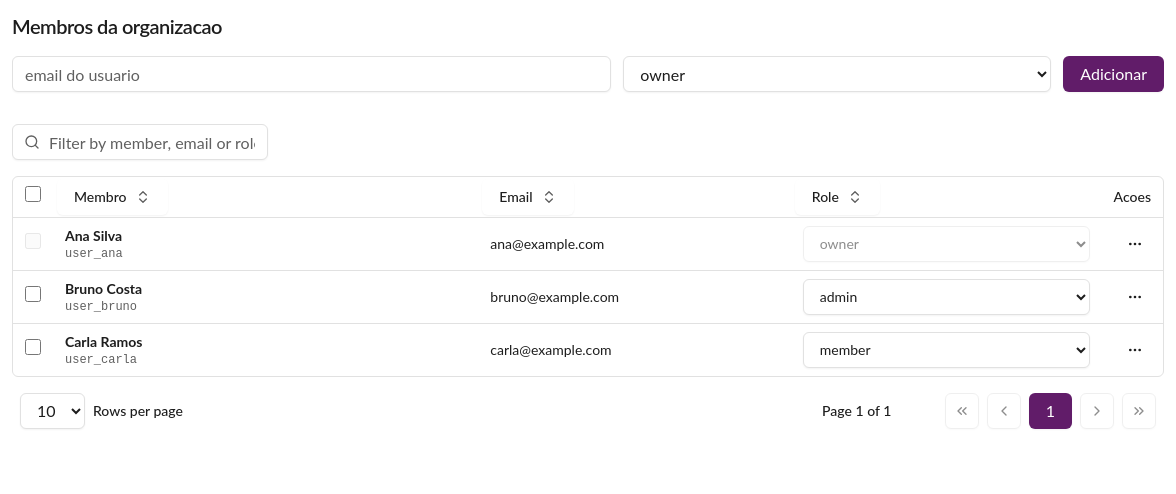
Test case: Organizations pages › manages organization members and surfaces API errors
The width and height of the screenshot is (1176, 494).
Expected: the text "Ana Silva" is shown, [65,226,122,244]
In the field with placeholder "email do usuario": (312, 74) [12,56,611,92], type "new@example.com"
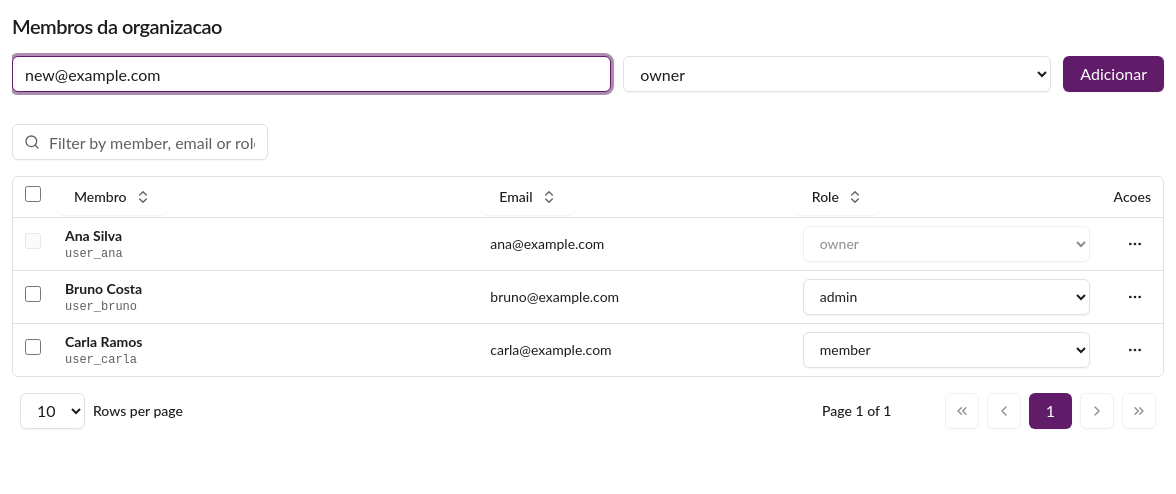
Click the button "Adicionar": click(1114, 74) [1063,56,1164,92]
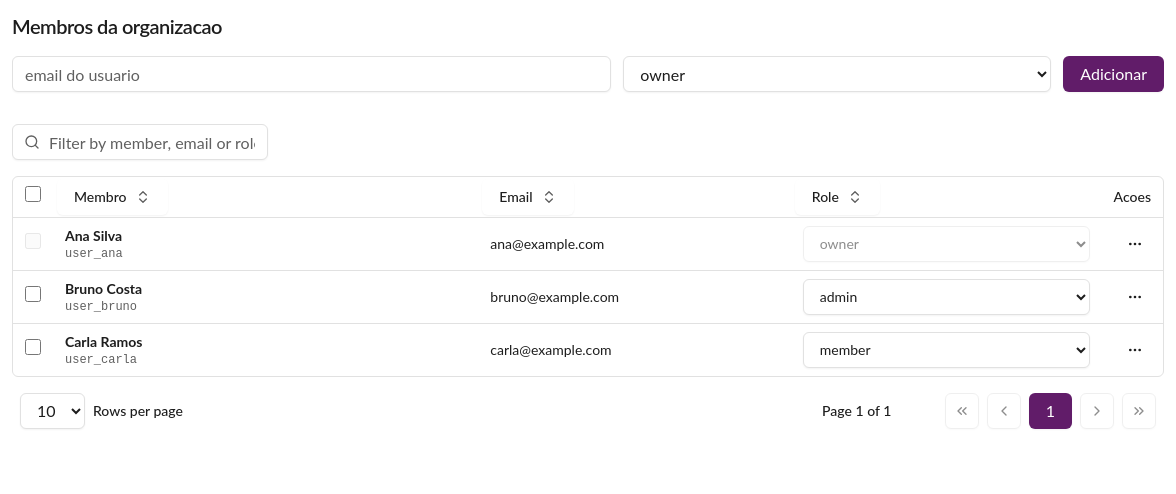
Click the button named "Acoes para Bruno Costa" in the row of "Bruno Costa": click(1135, 296) [1119,280,1151,312]
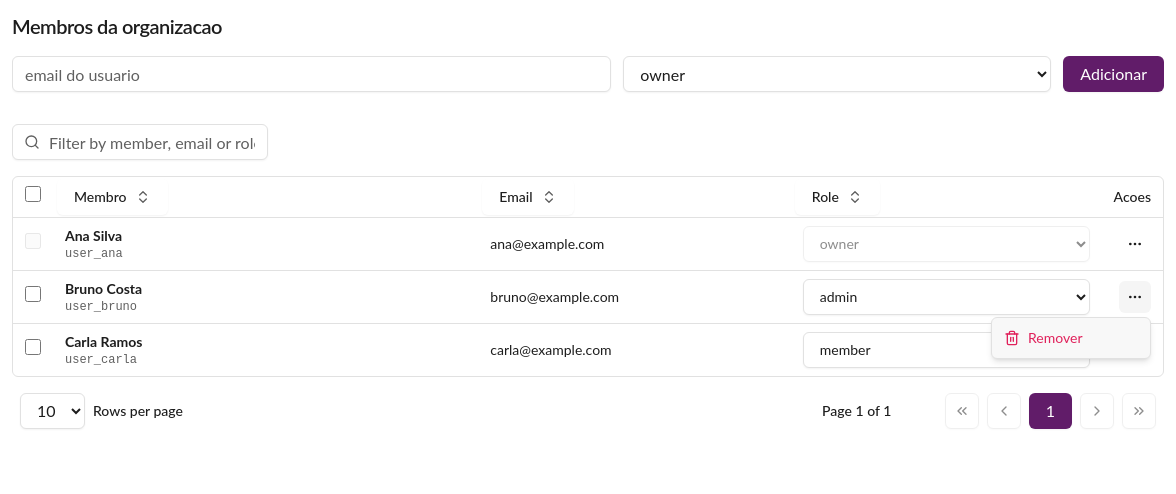
Click the menu item "Remover": click(1043, 338) [1004,329,1082,346]
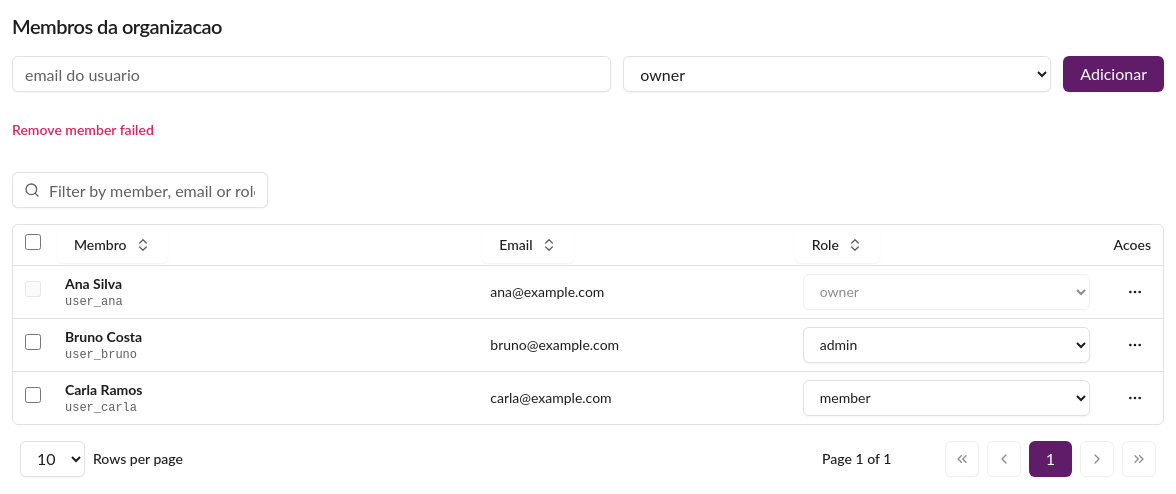
Expected: the text "Remove member failed" is shown, [12,121,154,138]
